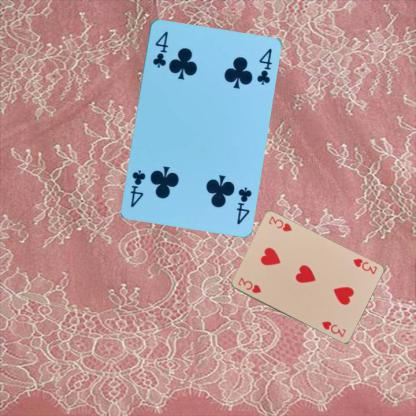3h: (350, 256, 378, 276), (235, 274, 262, 294)
4c: (150, 28, 169, 69), (234, 184, 252, 225)
